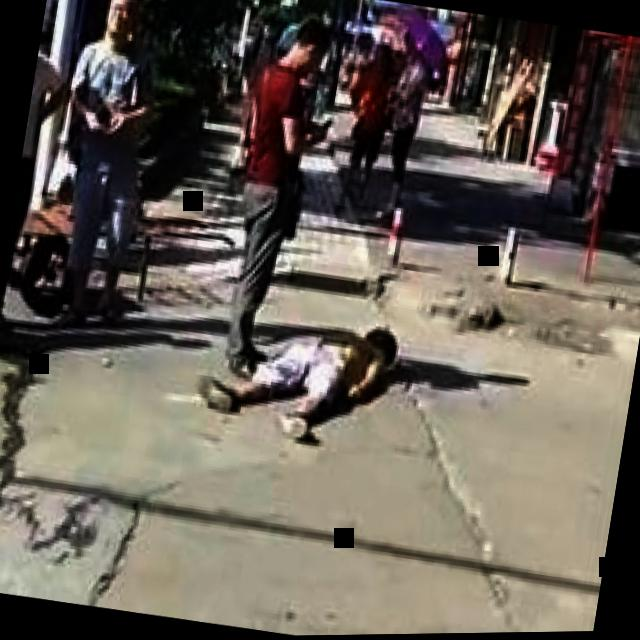Fall-Detected: (188, 282, 414, 457)
